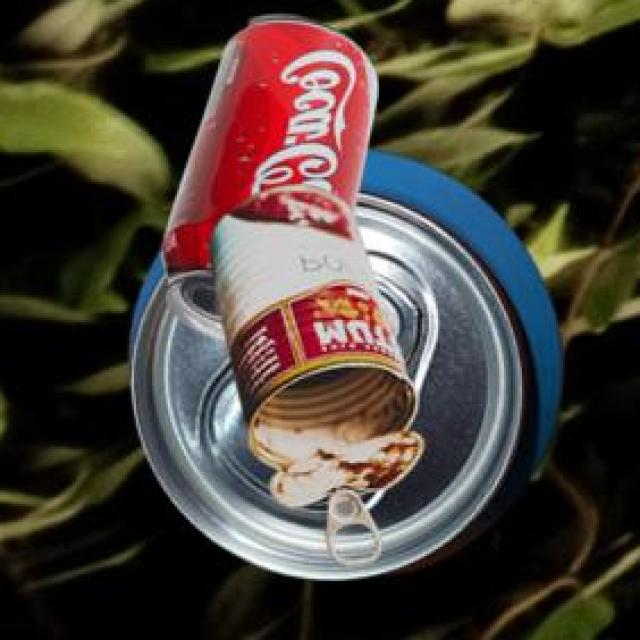logam: (126, 153, 557, 584), (208, 187, 421, 569), (158, 19, 373, 344)
